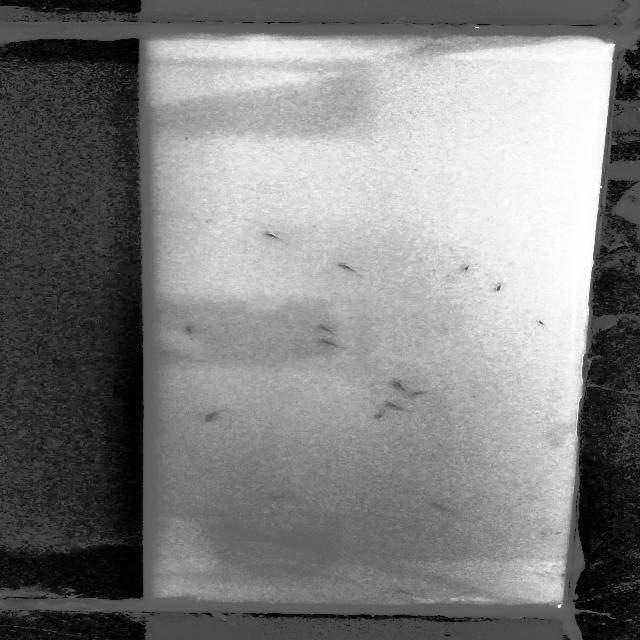shrimp: (258, 230, 304, 246), (384, 398, 416, 415), (197, 408, 232, 420), (336, 260, 362, 276), (314, 323, 344, 336), (389, 377, 410, 394), (178, 326, 206, 336), (314, 337, 341, 347), (493, 282, 512, 296), (434, 501, 458, 511), (398, 589, 421, 599), (372, 404, 388, 418), (405, 389, 427, 399), (530, 316, 549, 327), (460, 263, 477, 275), (271, 493, 292, 500)
